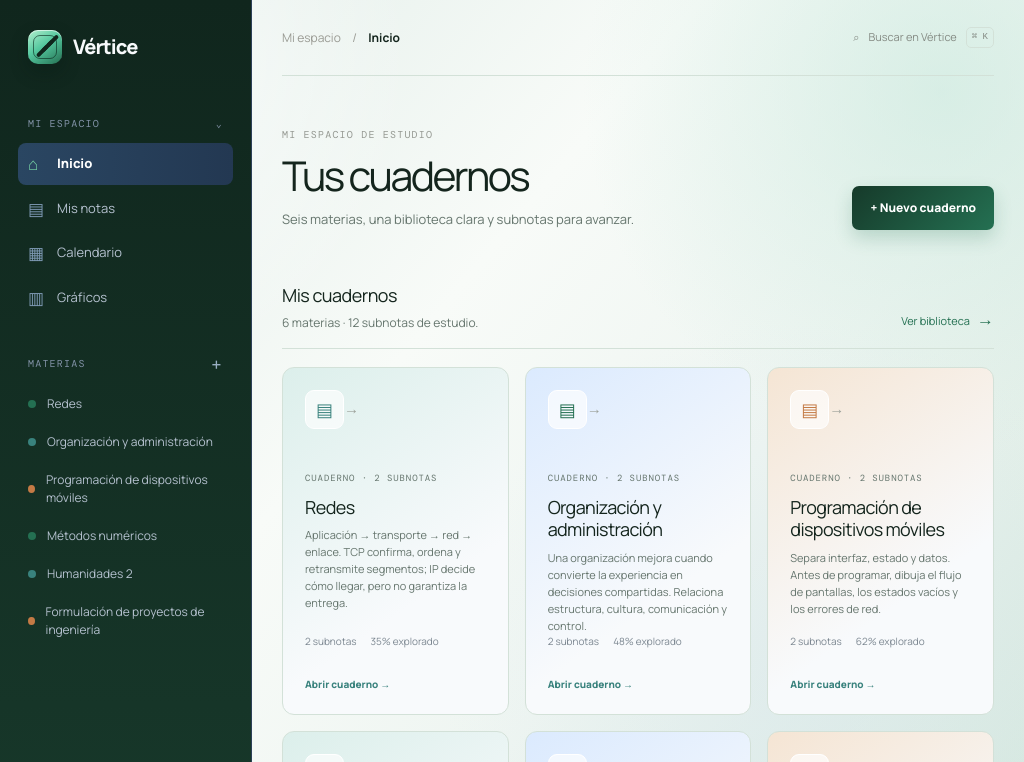
it: panel principal de estudio › muestra una vista de calendario con planificador diario
Click the button "▦ Calendario". click: coordinates (126, 253)
box: [18,232,233,274]
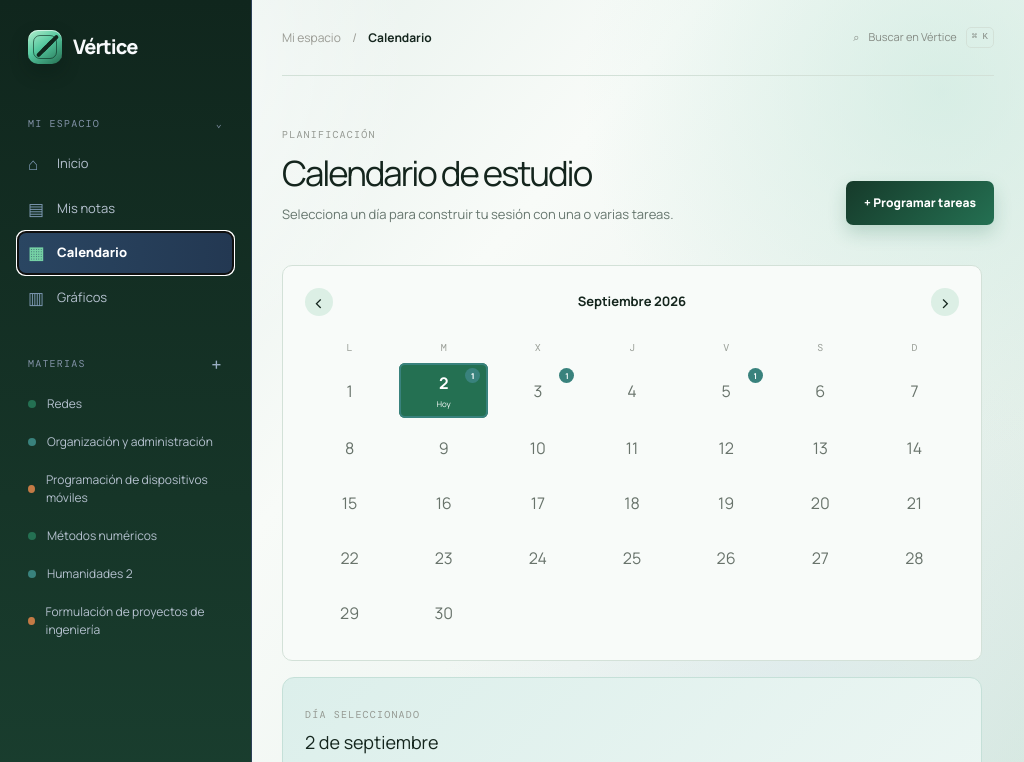
expect the heading "Calendario de estudio" is shown: met, box [282,149,591,196]
expect the text "Septiembre 2026" is shown: met, box [578,292,686,312]
expect the heading "2 de septiembre" is shown: met, box [305,730,438,754]
